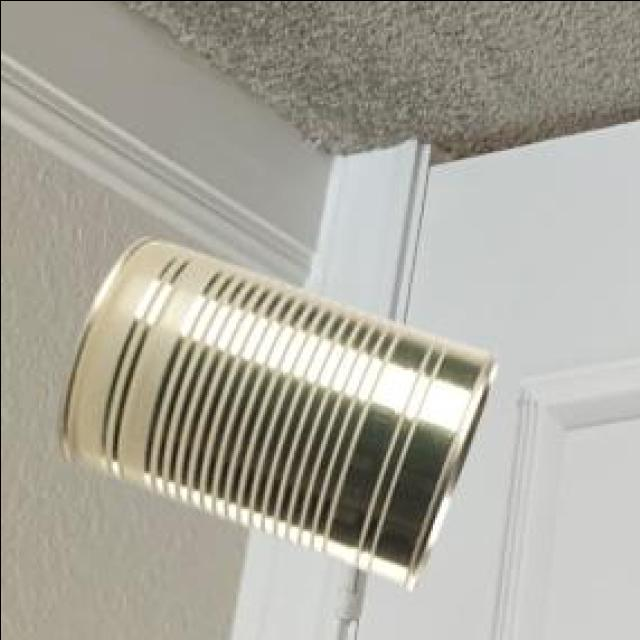logam: (62, 241, 498, 594)
